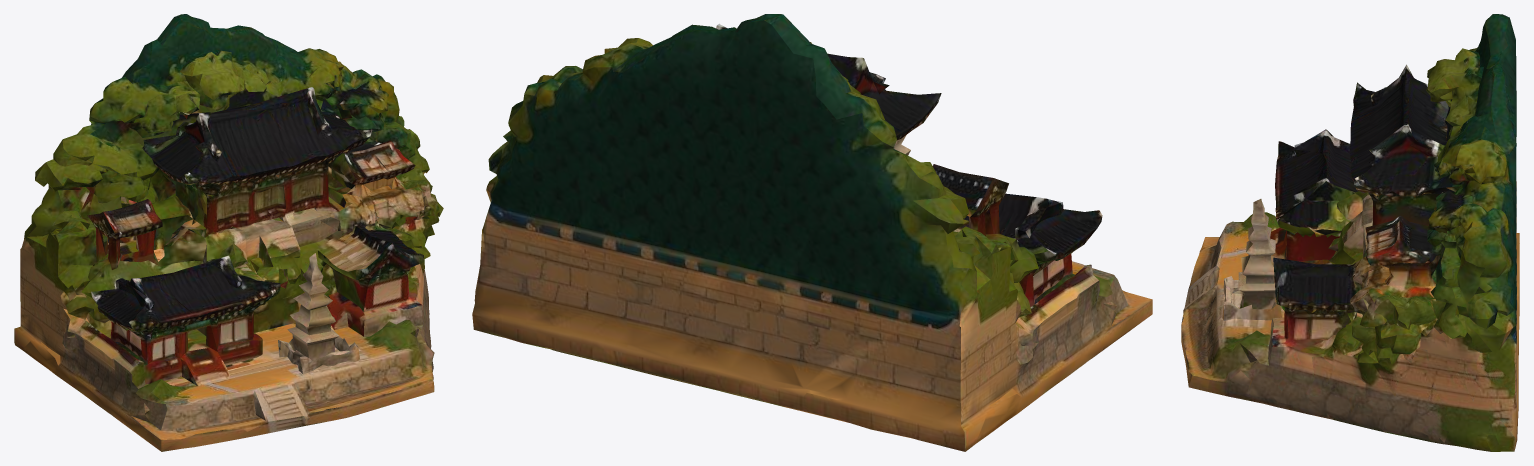
Rendered from bongjeongsa.glb.
The picture shows the model from 3 angles, left to right: view 1: azimuth 30°, elevation 25°; view 2: azimuth 150°, elevation 25°; view 3: azimuth 270°, elevation 25°; orthographic projection. The views are drawn at different scales.
Visible parts, largest first — view 1: logan-textured.obj; view 2: logan-textured.obj; view 3: logan-textured.obj.
Boxes of the visible parts, x1,y1,x2,y2 form: logan-textured.obj: (14,14,443,451); logan-textured.obj: (472,14,1152,451); logan-textured.obj: (1181,14,1519,451).
Bounding box in the file's own units: 1 × 0.7315 × 0.7068.
Materials: 1 (1 with a texture image).
